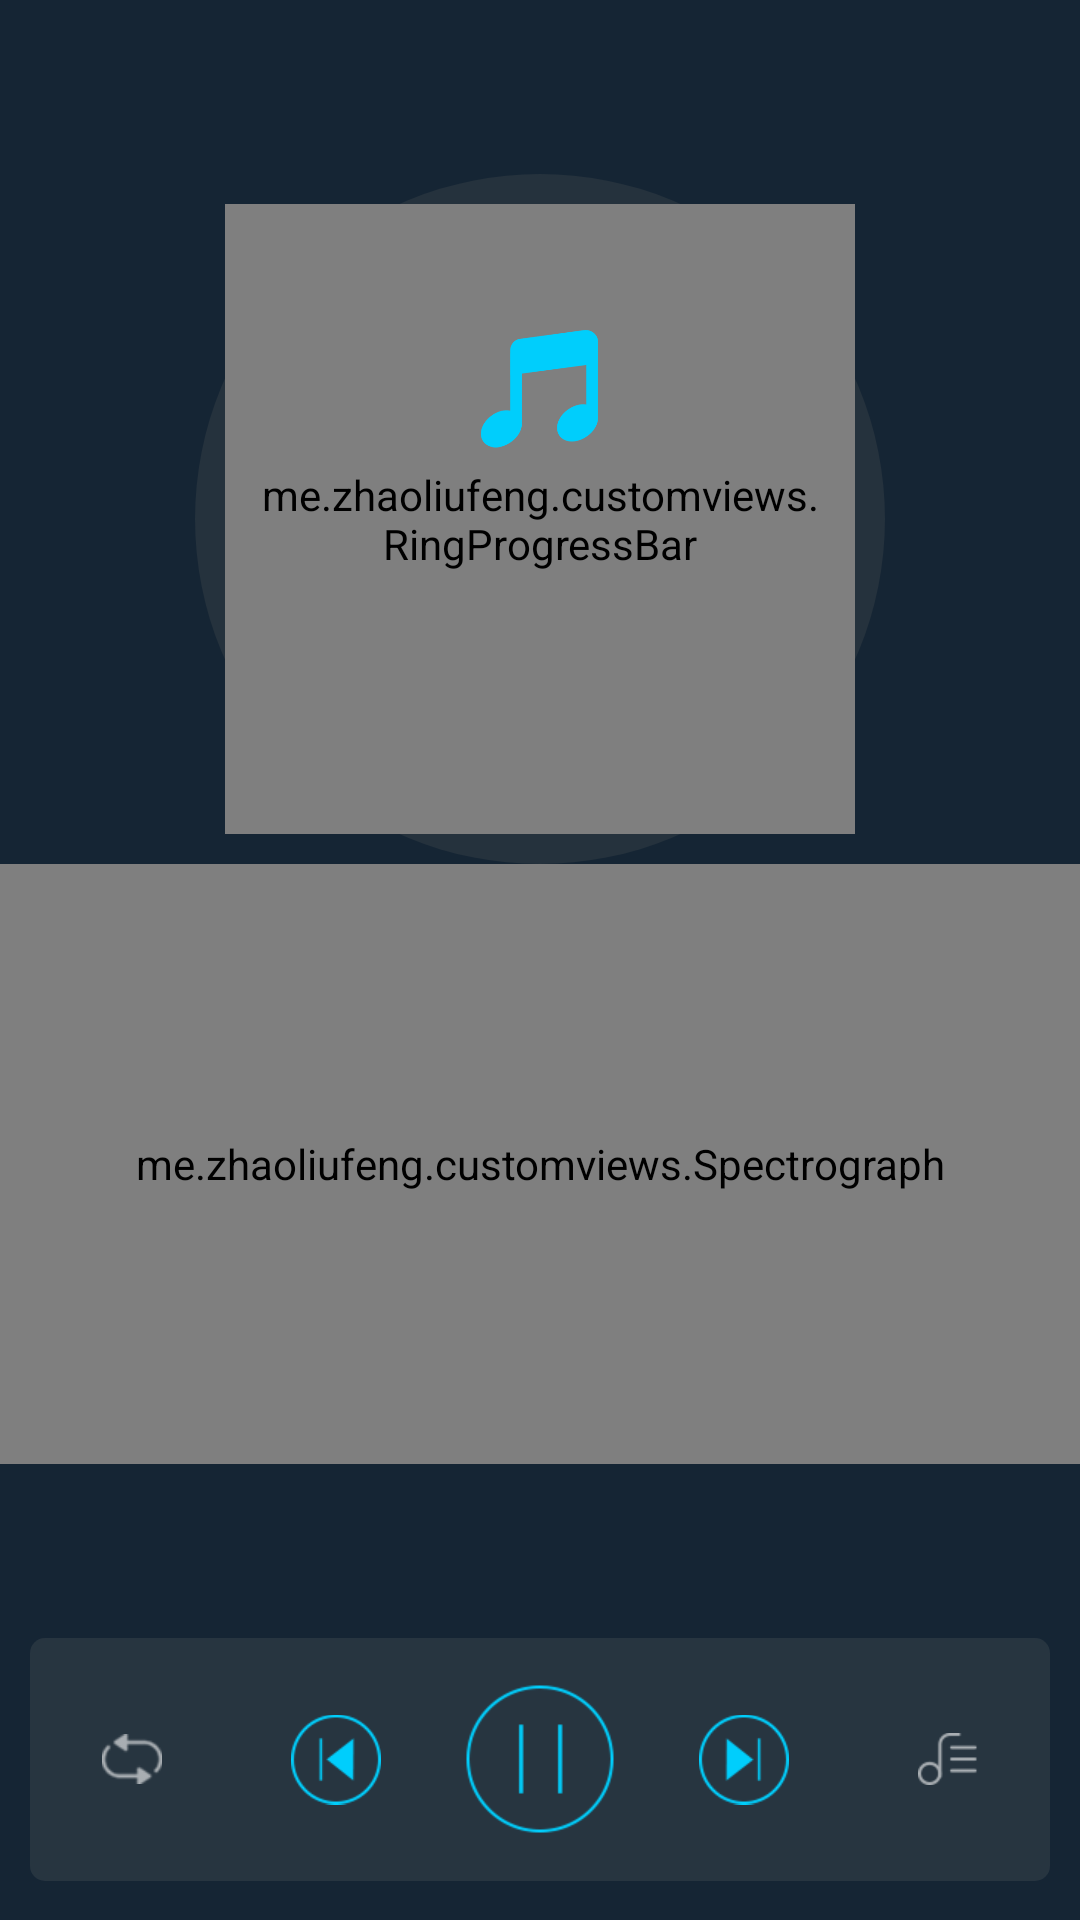

Where icons sit on this 1080×1920 app screen, as [left=x1, top=y1, right=x2, bottom=y2]:
music list: [left=918, top=1733, right=977, bottom=1785]
music note: [left=481, top=330, right=598, bottom=448]
music play mode cycle: [left=102, top=1734, right=162, bottom=1784]
play music last: [left=291, top=1715, right=381, bottom=1805]
play music next: [left=699, top=1715, right=789, bottom=1805]
play music pause: [left=466, top=1685, right=614, bottom=1833]
